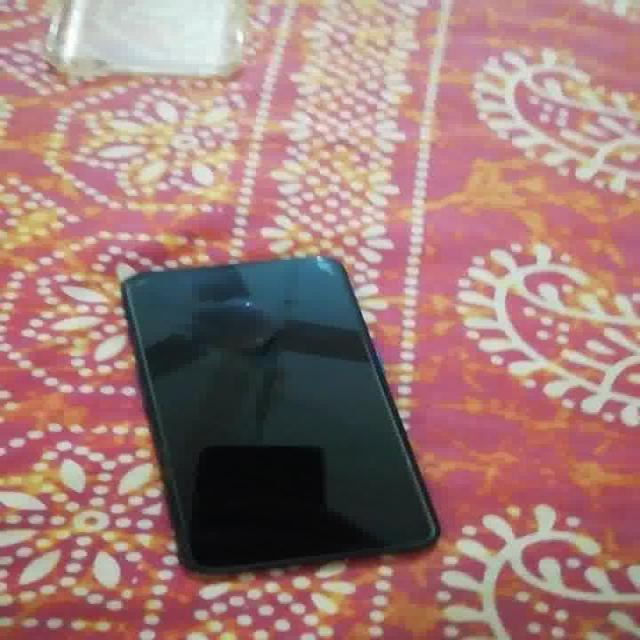phone: (120, 245, 442, 585)
